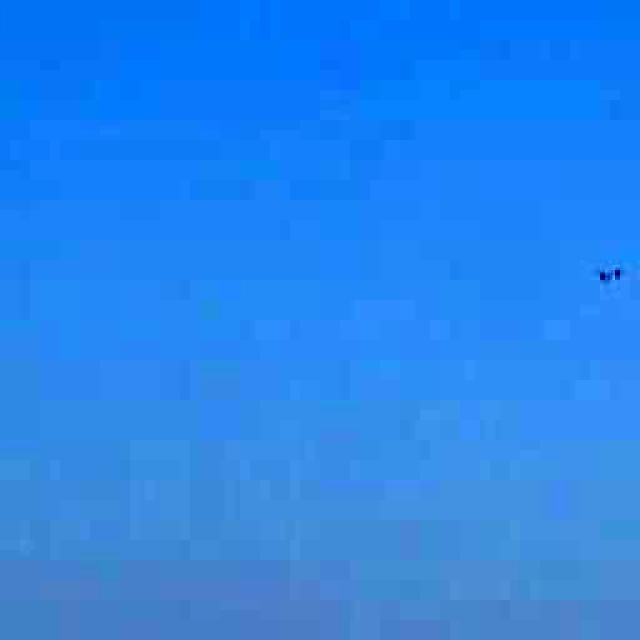bird: (586, 254, 629, 296)
